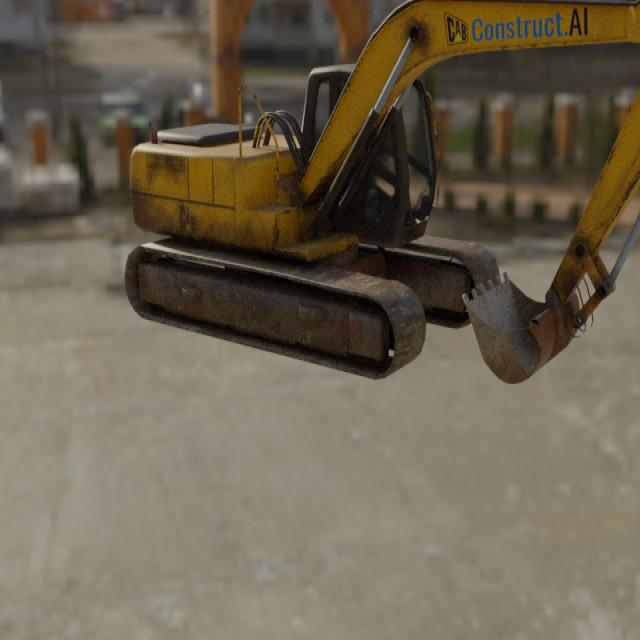excavator: (123, 0, 640, 385)
